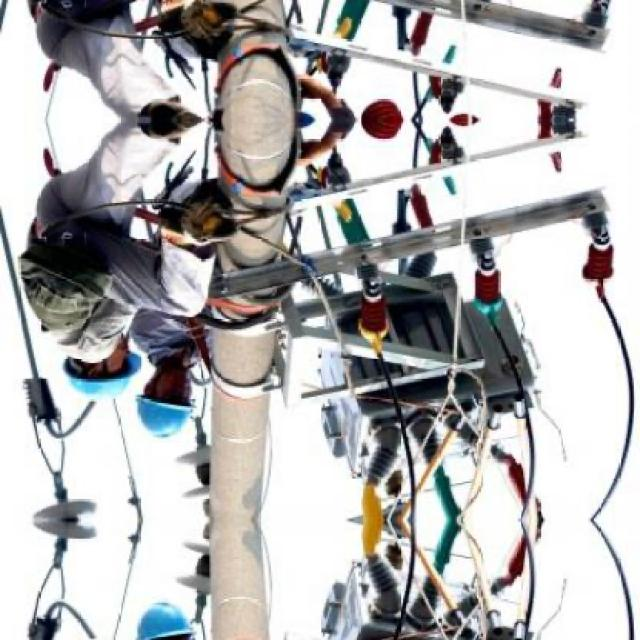con casco: (24, 332, 153, 412), (132, 348, 240, 441)
